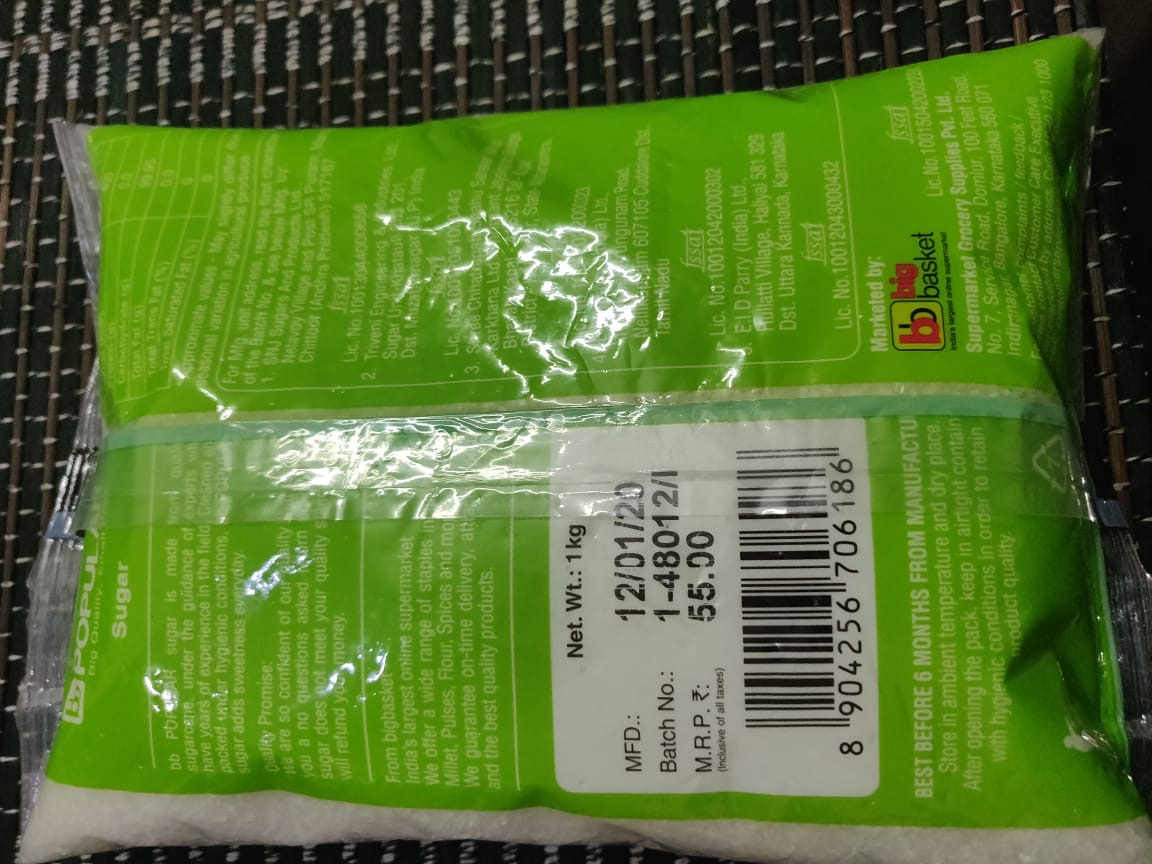barcode: (727, 437, 875, 788)
